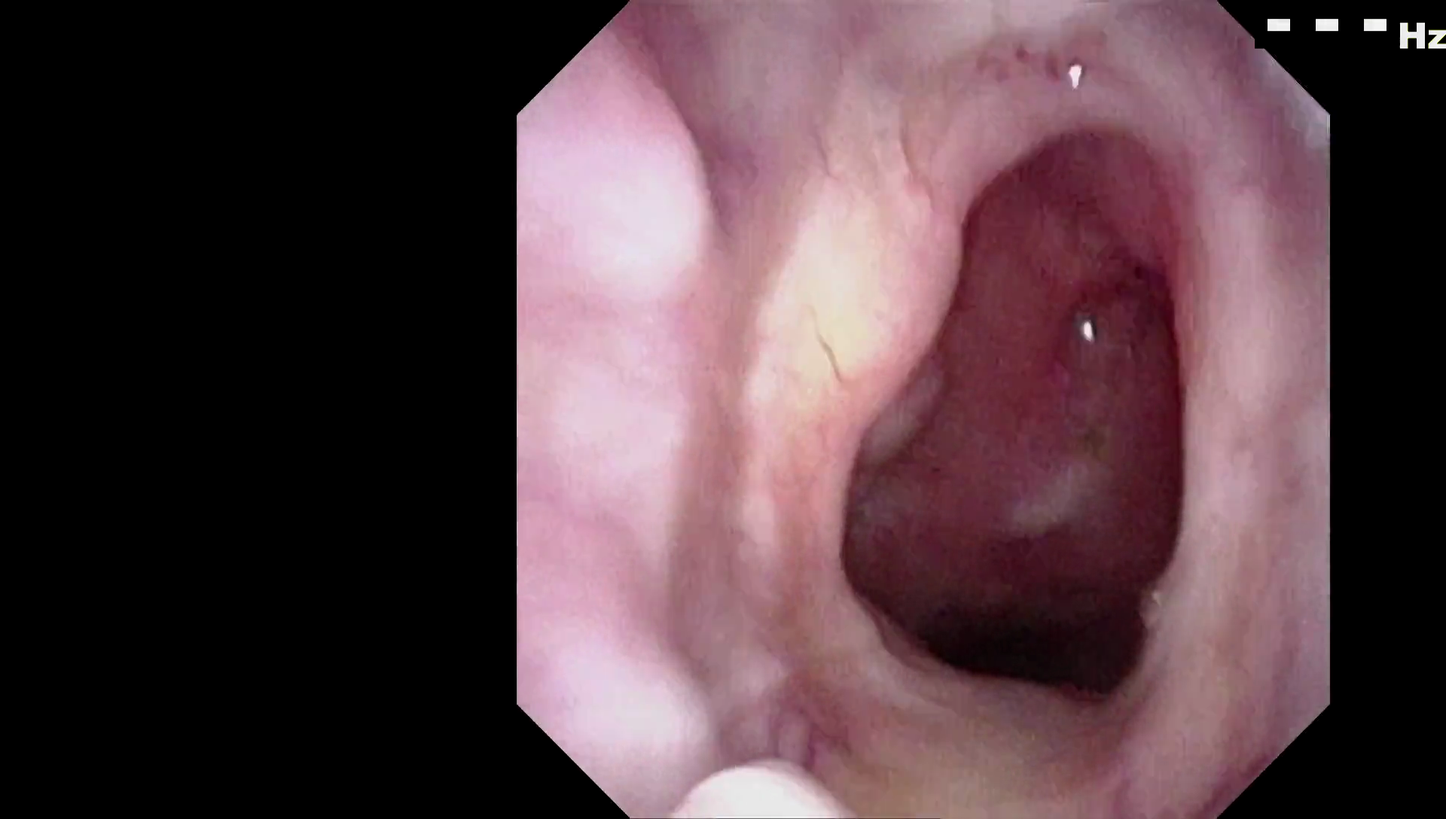next: (827, 516, 1203, 718)
